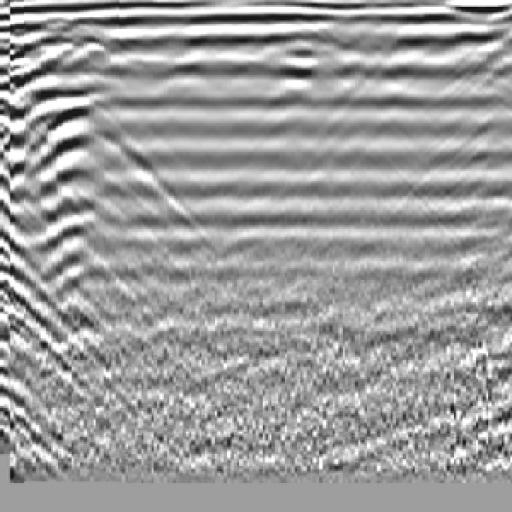metalic: (1, 21, 213, 310)
